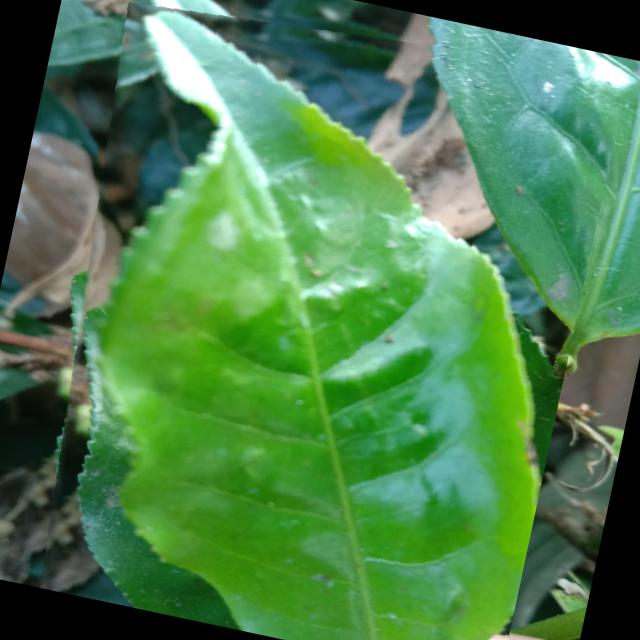Category B(2-4 days): (4, 0, 627, 640)
